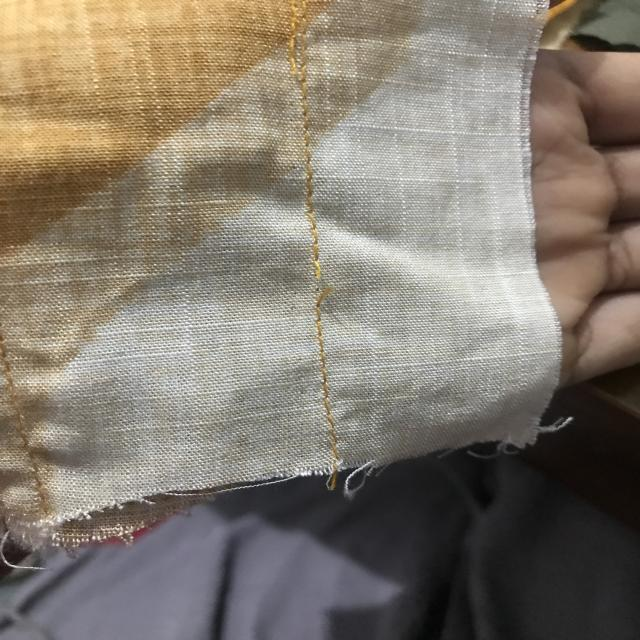broken: (303, 253, 346, 319)
good: (294, 127, 332, 220), (312, 335, 344, 418)
